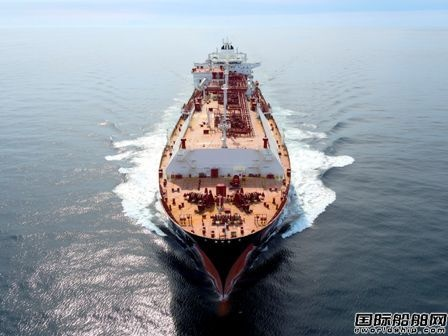Cargoship: (153, 40, 294, 298)
